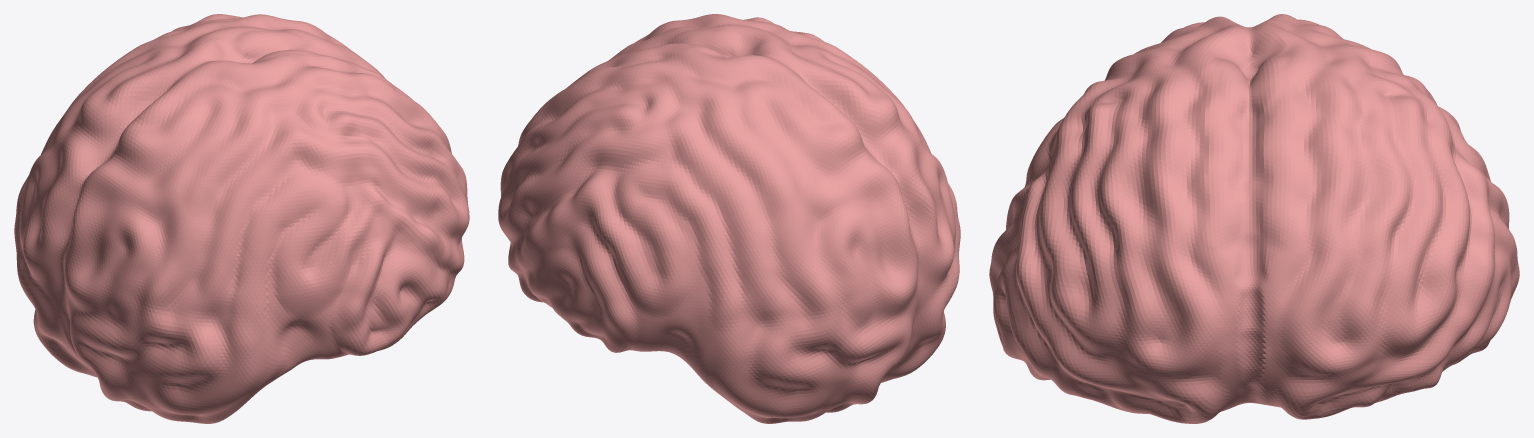
Rendered from MS Brain.fbx.
The picture shows the model from 3 angles, left to right: view 1: azimuth 30°, elevation 25°; view 2: azimuth 150°, elevation 25°; view 3: azimuth 270°, elevation 25°; orthographic projection. The views are drawn at different scales.
Parts seen in each view (by area): view 1: Icosphere.002; view 2: Icosphere.002; view 3: Icosphere.002.
Boxes of the visible parts, bbox=[...] form: Icosphere.002: bbox=[14, 14, 469, 423]; Icosphere.002: bbox=[498, 14, 960, 423]; Icosphere.002: bbox=[989, 14, 1519, 423].
Bounding box in the file's own units: 210 × 166 × 210.
